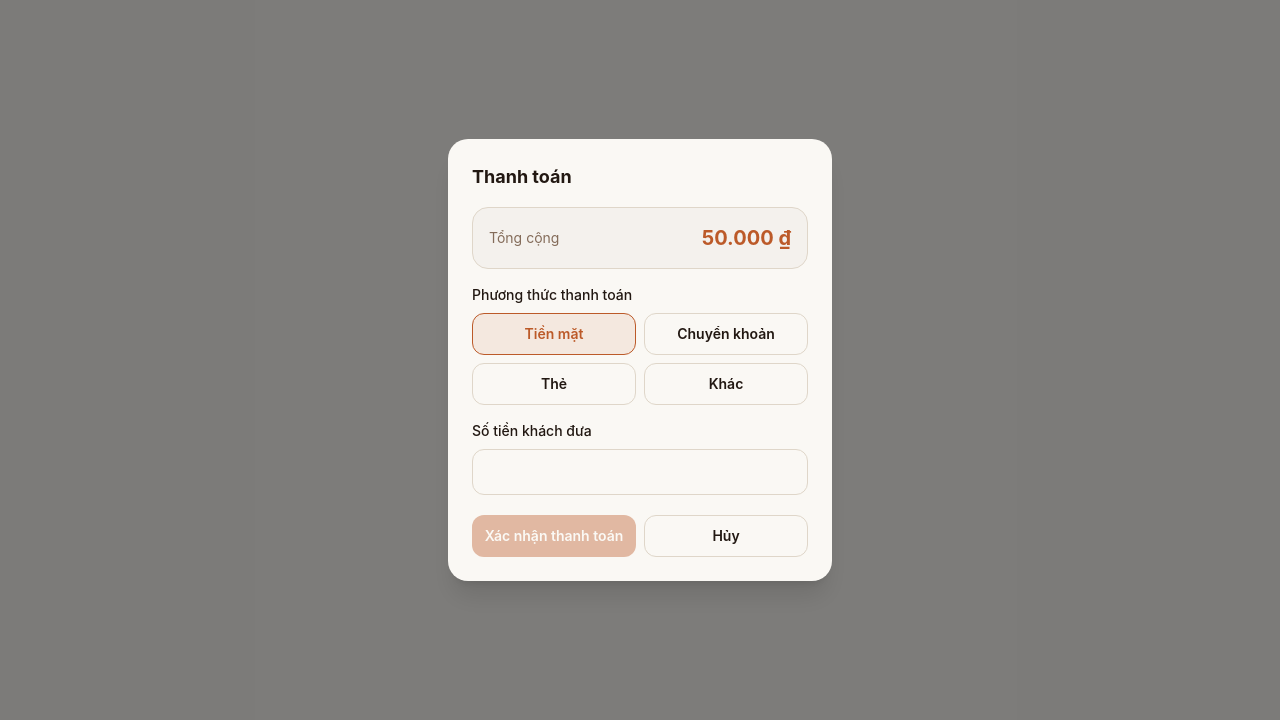
Test: PaymentModal – payment lifecycle (Task 2.10) › confirm button is enabled for card method when tender === orderTotal
Click the button "Thẻ".
click(554, 384)  # box [472, 363, 636, 405]
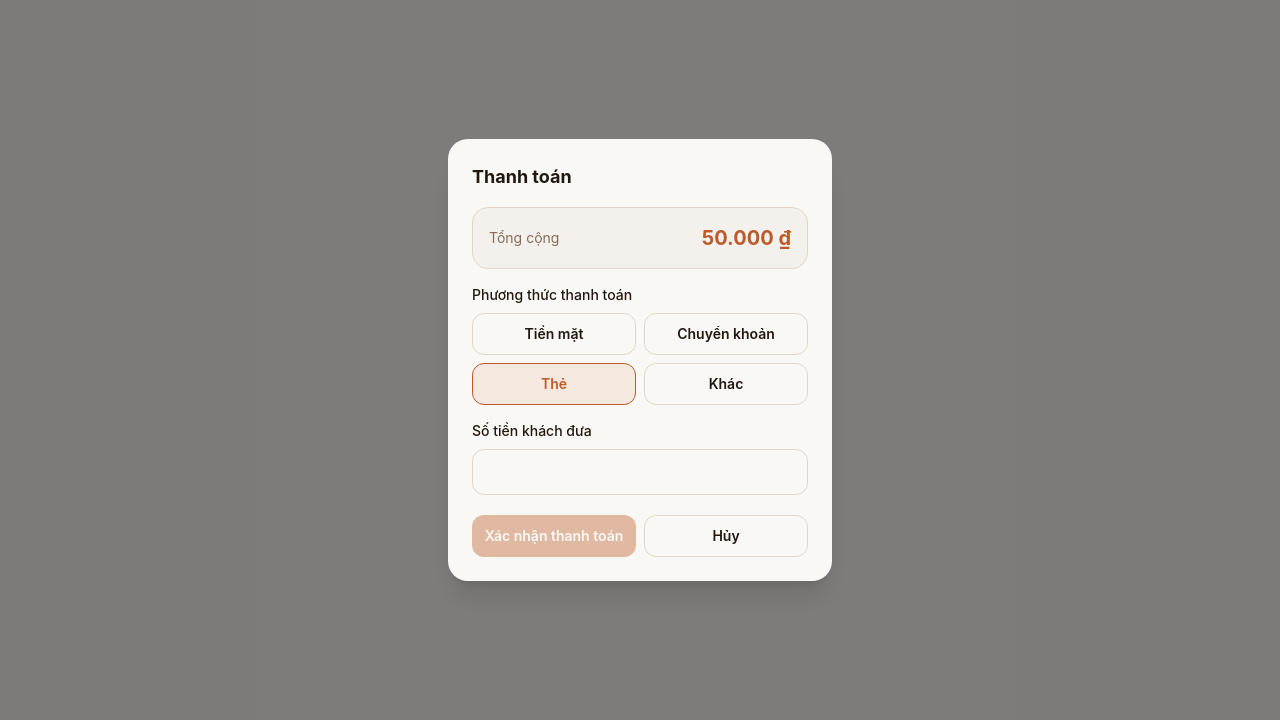
Type "50000" into the number field.
click(640, 472); type("50000")  # box [472, 449, 808, 495]
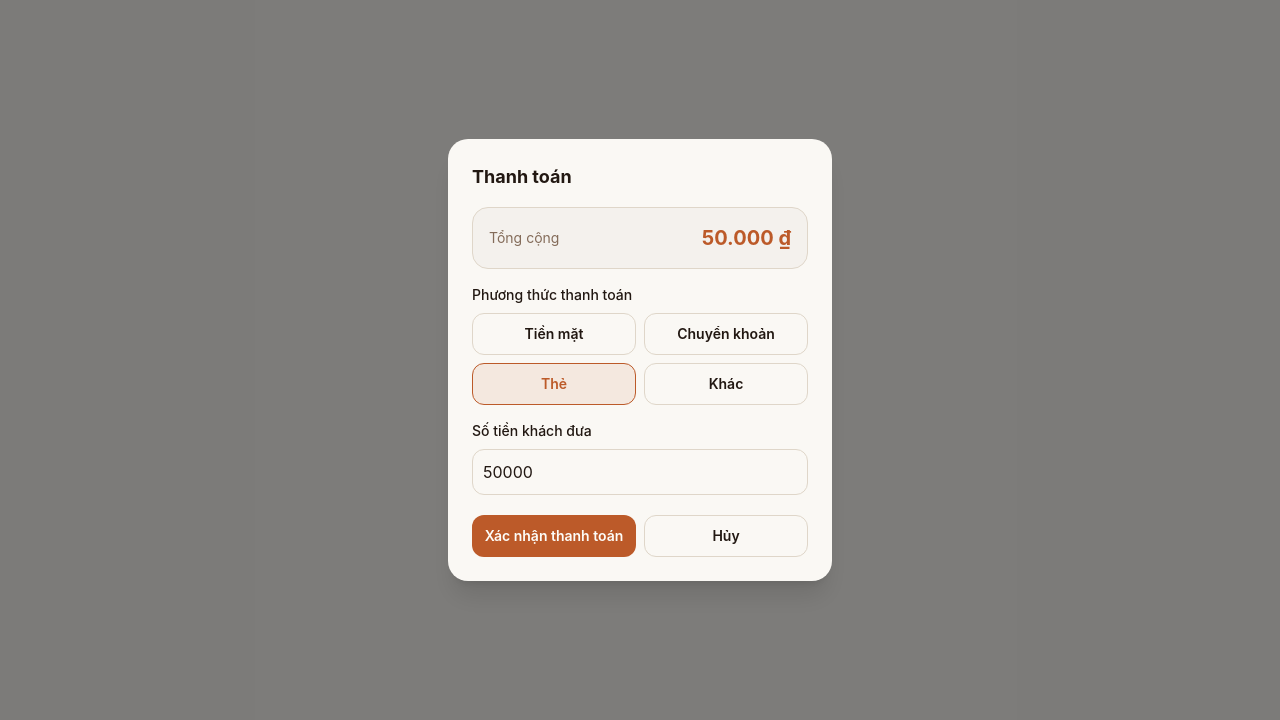
Check: the button "Xác nhận thanh toán" is enabled, box [472, 515, 636, 557]
